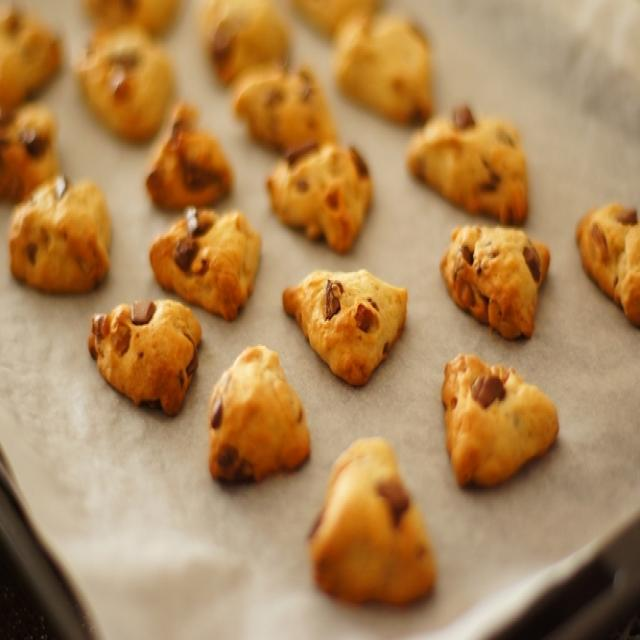面包点心: (1, 5, 638, 622)
